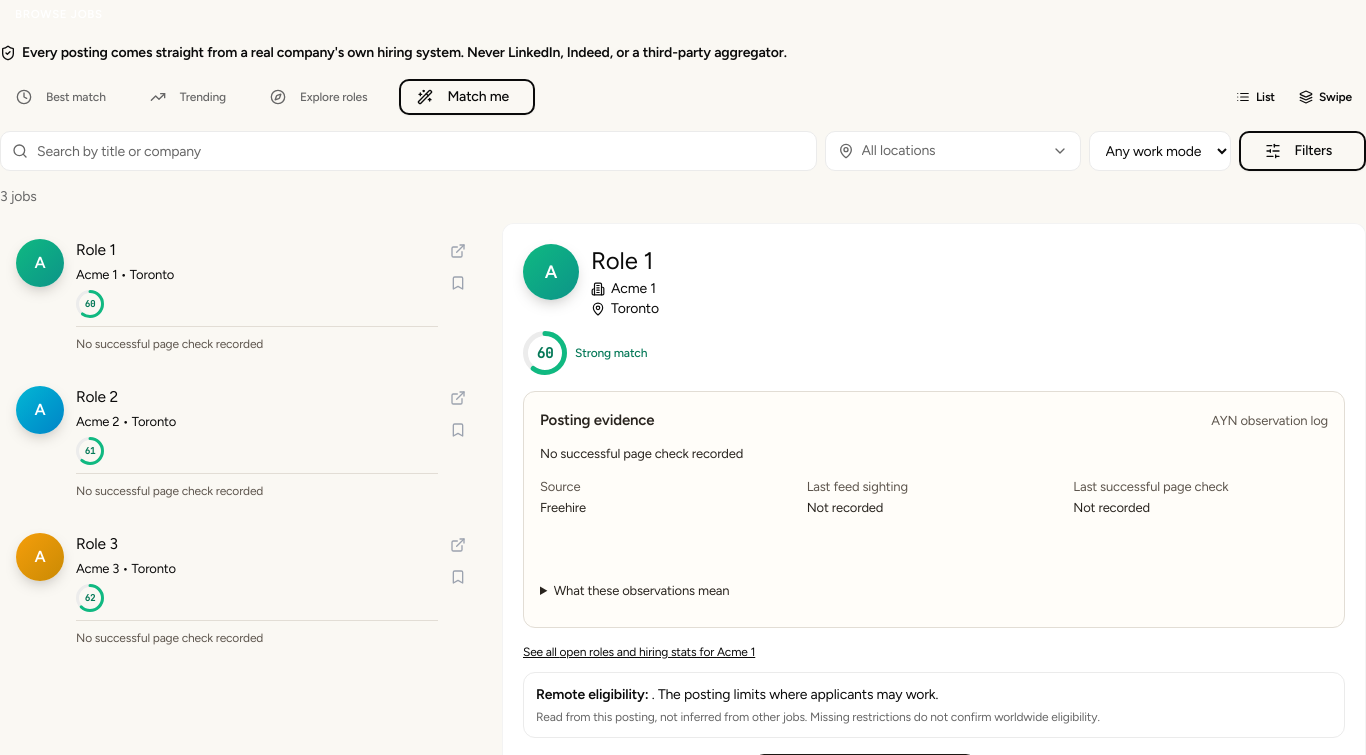
Test: BrowseJobs list (real component, mocked backend) › Explore roles lists roles, and picking one closes the dialog and searches for it
This screenshot has width=1366, height=755.
Click the button "Explore roles": (323,97) [254, 79, 391, 115]
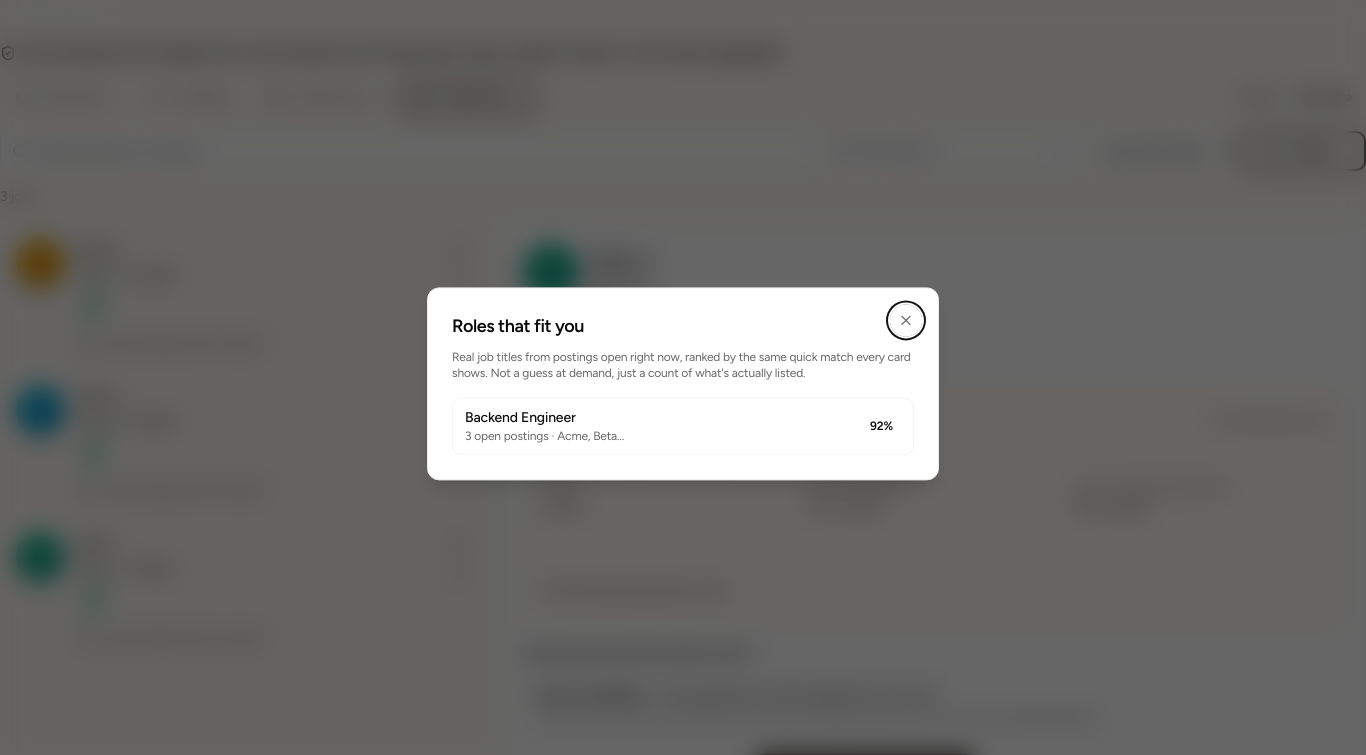
expect the heading "Roles that fit you" is shown: met, box [452, 315, 584, 337]
expect the text "Backend Engineer" is shown: met
expect the text "92%" is shown: met, box [870, 420, 893, 434]
Click the text "Backend Engineer": (520,418) [465, 410, 576, 427]
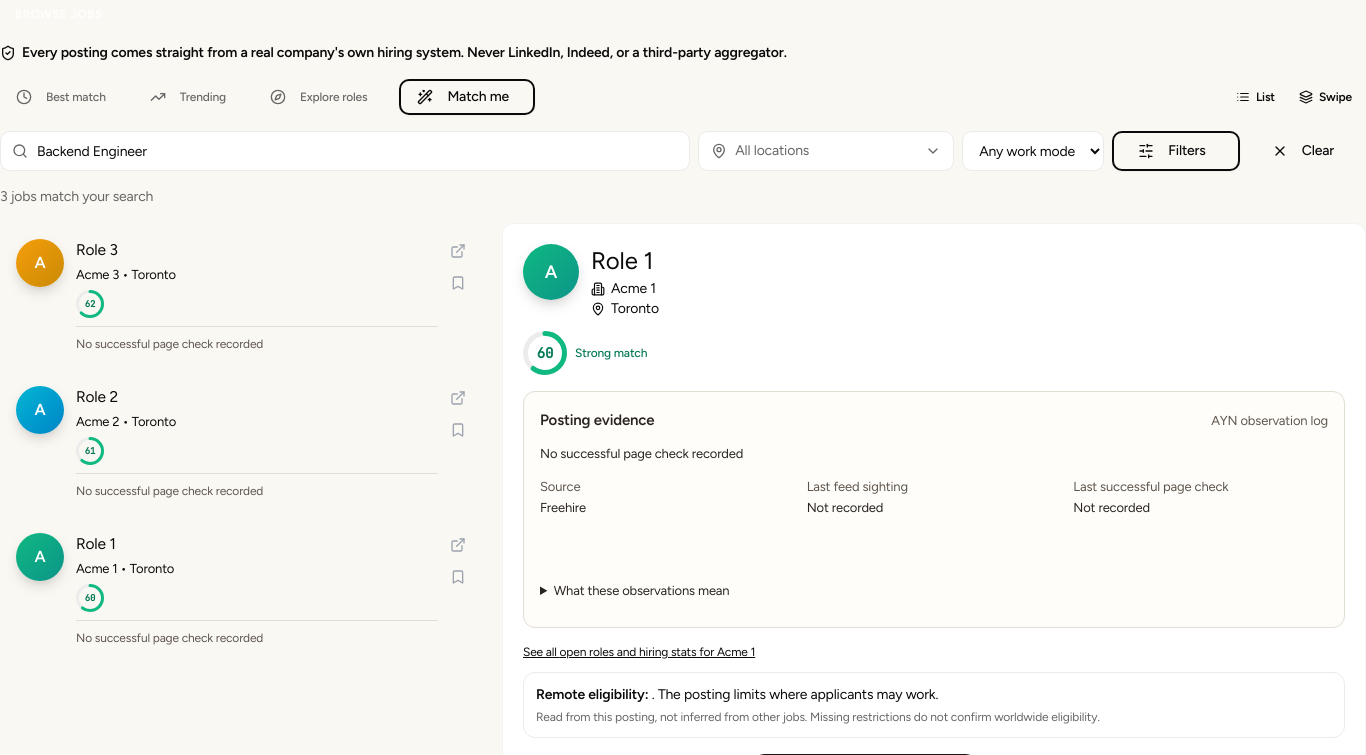
expect the dialog is gone: met
expect the field with placeholder "Search by title or company" holds "Backend Engineer": met, box [0, 131, 690, 171]
